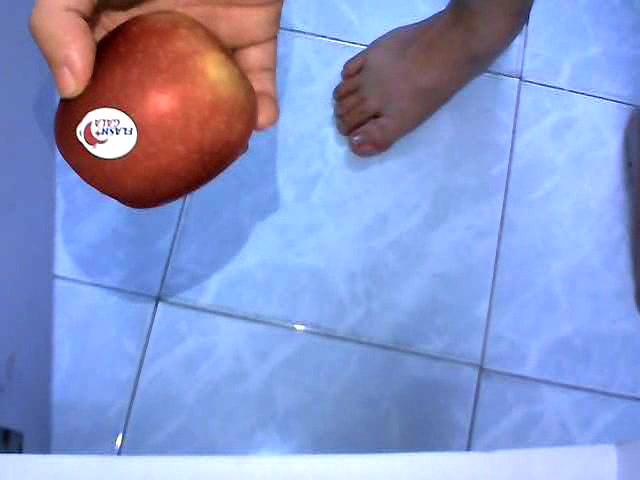apple: (54, 11, 254, 207)
